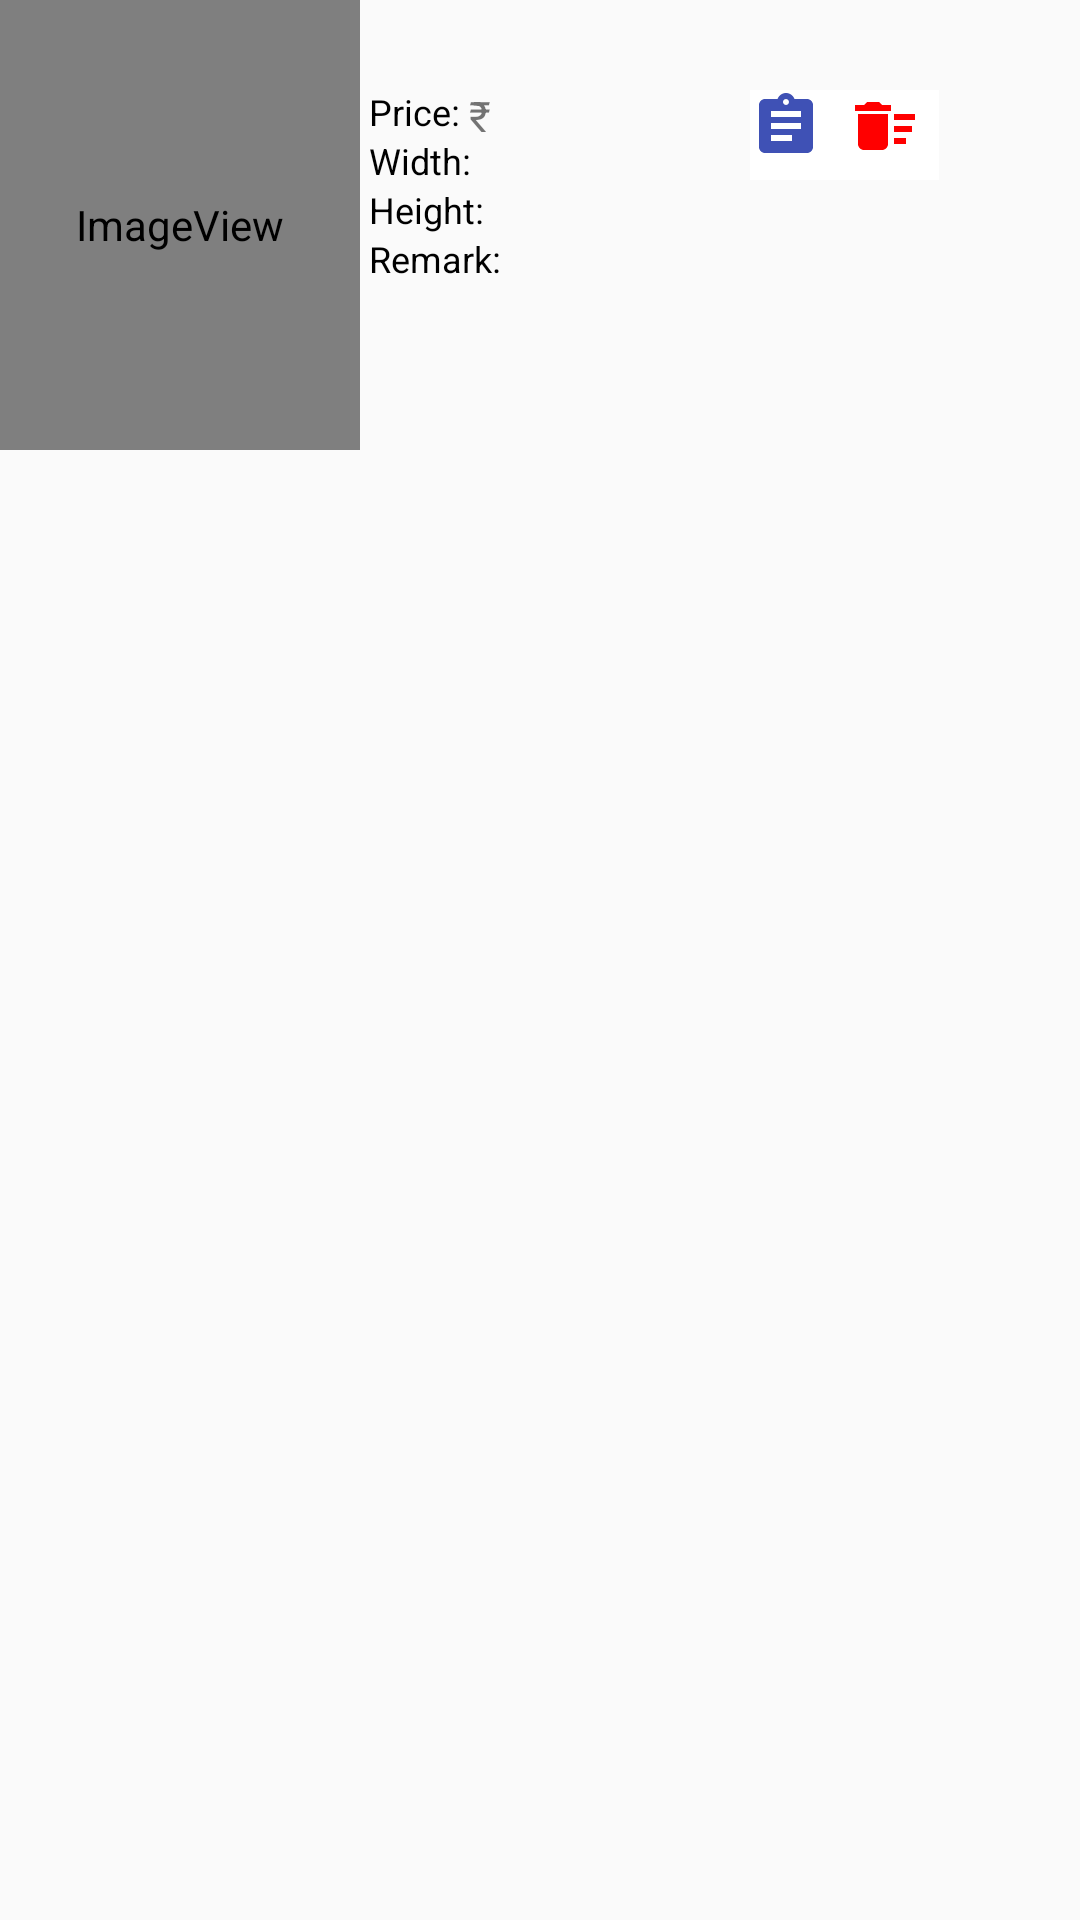

Icon bounding boxes for this 1080×1920 phone screenshot, format Rect(x1, y1, x2, y2):
assignment: Rect(759, 93, 813, 153)
delete sweep: Rect(855, 102, 915, 150)
